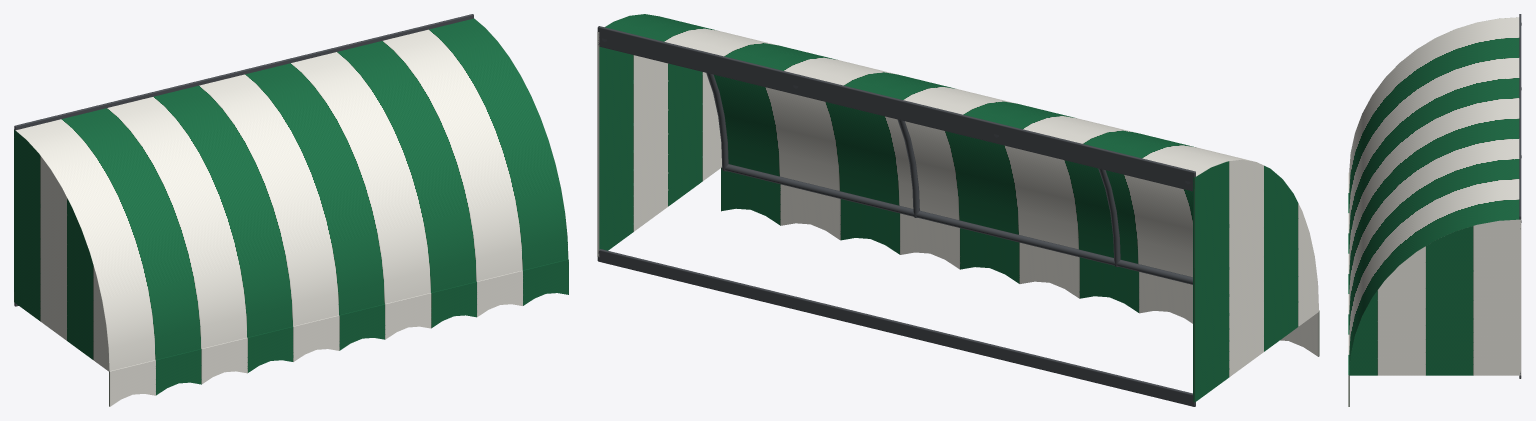
The model's file is shop_awning_dome.fbx.
3 renders of one model, left to right at view 1: azimuth 30°, elevation 25°; view 2: azimuth 150°, elevation 25°; view 3: azimuth 270°, elevation 25°, orthographic. The views are drawn at different scales.
Visible parts, largest first — view 1: shop_awning_dome; view 2: shop_awning_dome; view 3: shop_awning_dome.
Boxes of the visible parts, x1,y1,x2,y2 form: shop_awning_dome: (14, 14, 568, 406); shop_awning_dome: (597, 14, 1319, 406); shop_awning_dome: (1348, 14, 1521, 406).
Size of the model in its own units: 2.5 by 1.1 by 0.9048.
Materials: 2 (1 with a texture image).
